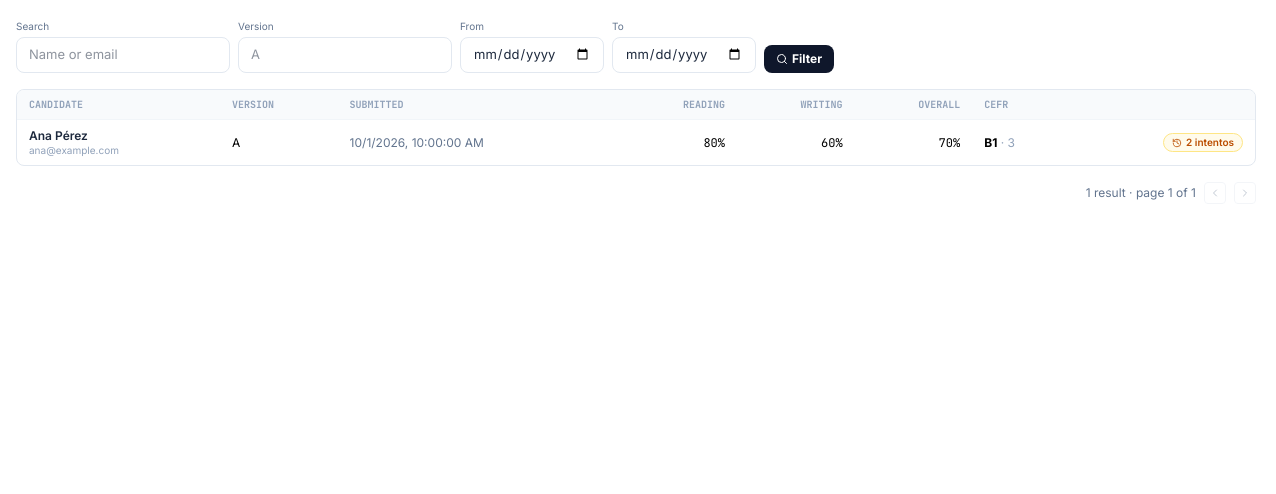
Scenario: ResultsTab › opens the detail panel with writing feedback on row click
Click the text "ana@example.com" at [74, 150], box [29,144,119,156]
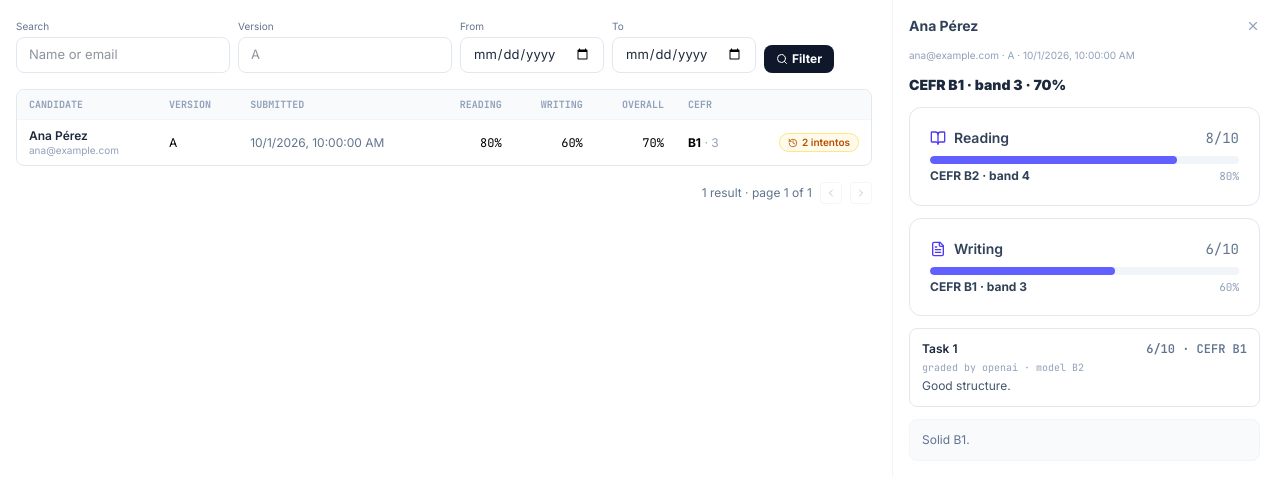
Now the element named "Attempt detail" shows "Good structure.", box [922,378,1011,393]
